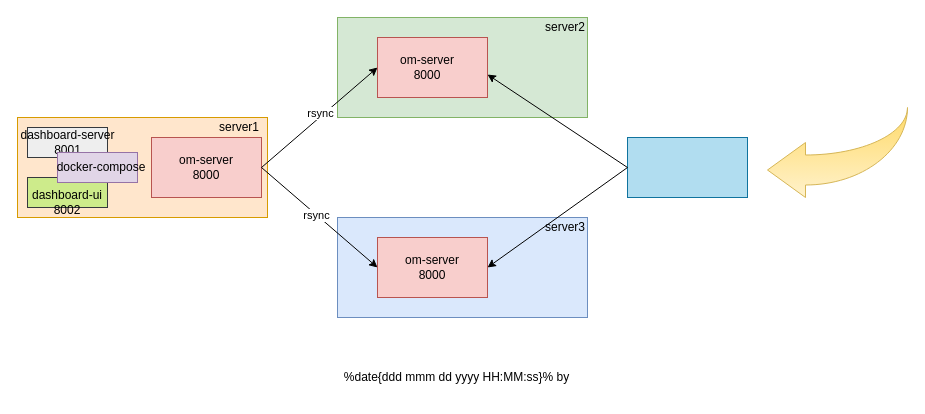
Image size: 925x414. Some labels were removed from this diagram. Here are the shapes that lost their labels. From the top down, the box of each, then its label:
(626, 136, 748, 198): 域名/LB
(766, 106, 908, 198): 访问
